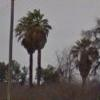Palm tree: (21, 8, 54, 80)
